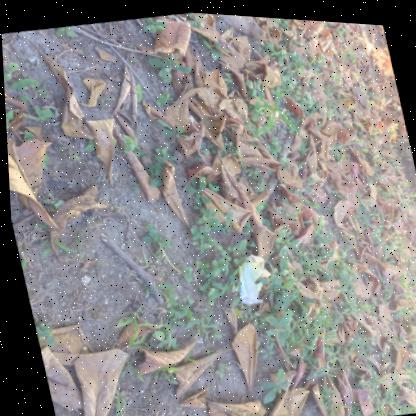Plastic: (235, 251, 267, 301)
